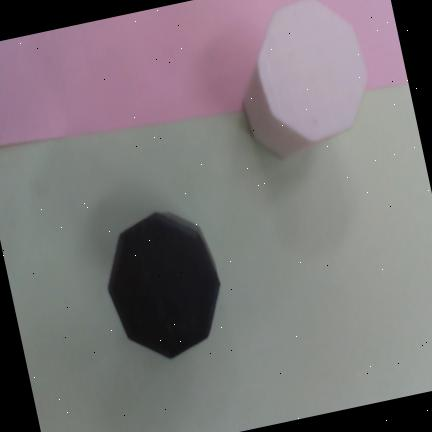Prisma_hexagonal: (244, 0, 369, 160), (107, 212, 221, 360)
